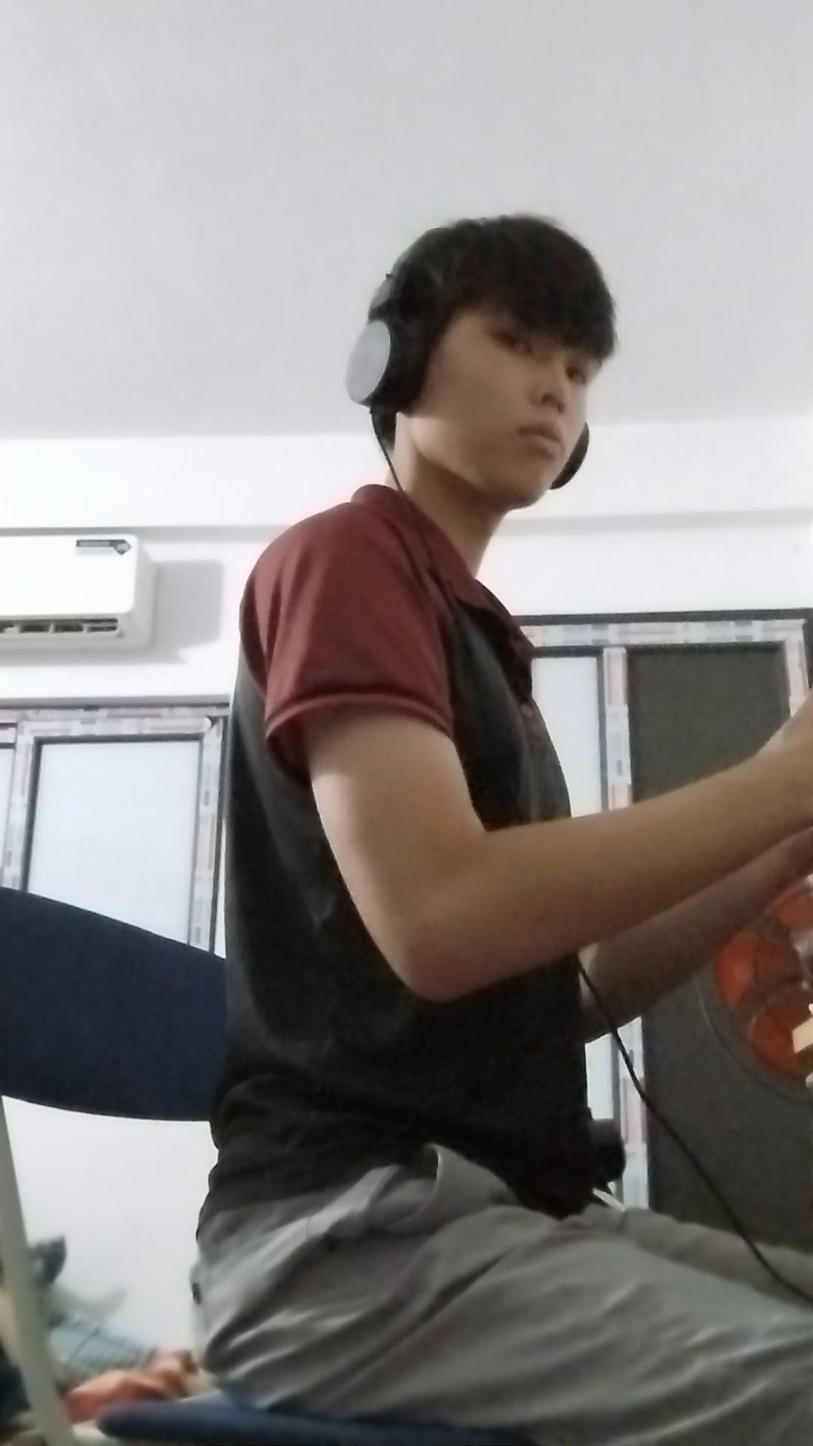GoodPosture: (191, 215, 812, 1445)
